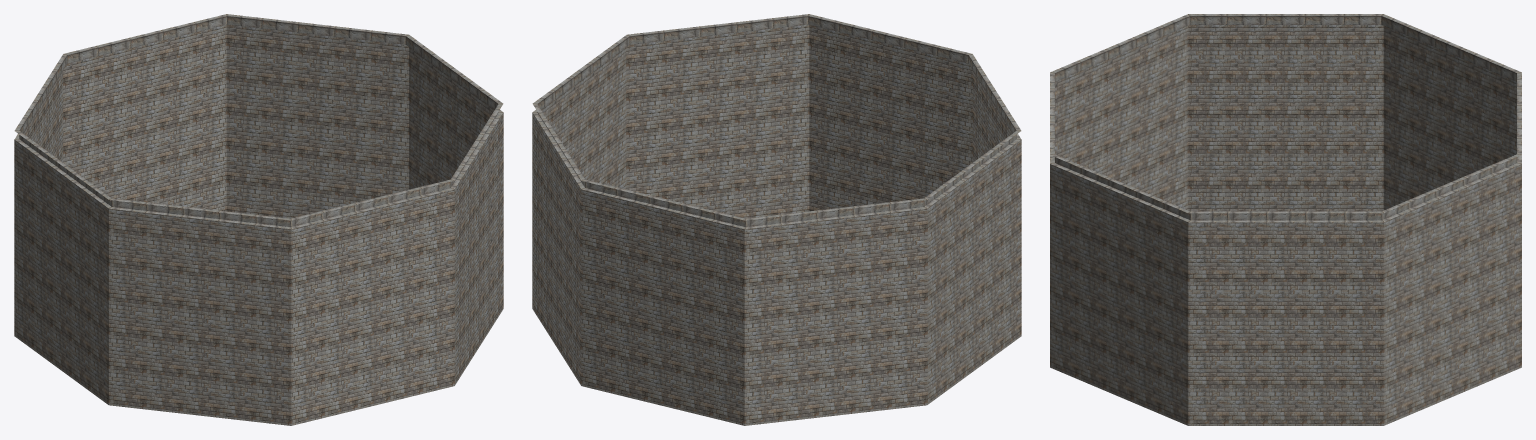
Rendered from CircularWallsTop.fbx.
3 renders of one model, left to right at view 1: azimuth 30°, elevation 25°; view 2: azimuth 150°, elevation 25°; view 3: azimuth 270°, elevation 25°, orthographic. The views are drawn at different scales.
Parts seen in each view (by area): view 1: CircularWallsTop; view 2: CircularWallsTop; view 3: CircularWallsTop.
Part boxes in pixels (box(x1,y1,x2,y2)): CircularWallsTop: box(14, 14, 503, 425); CircularWallsTop: box(532, 14, 1021, 425); CircularWallsTop: box(1050, 14, 1521, 425).
Bounding box in the file's own units: 1811 × 900 × 1811.
